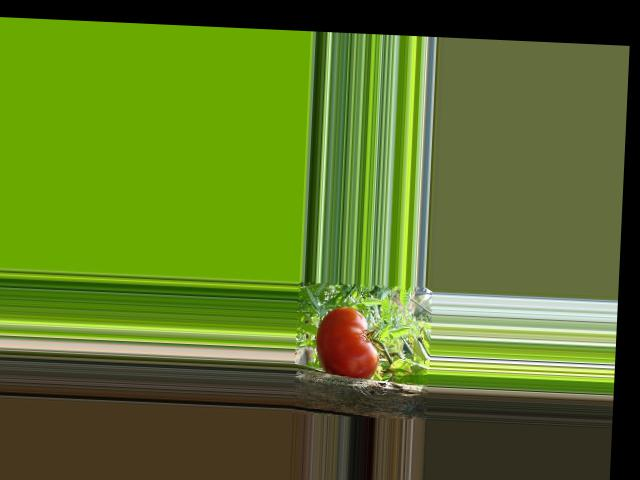tomato: (315, 305, 381, 380)
